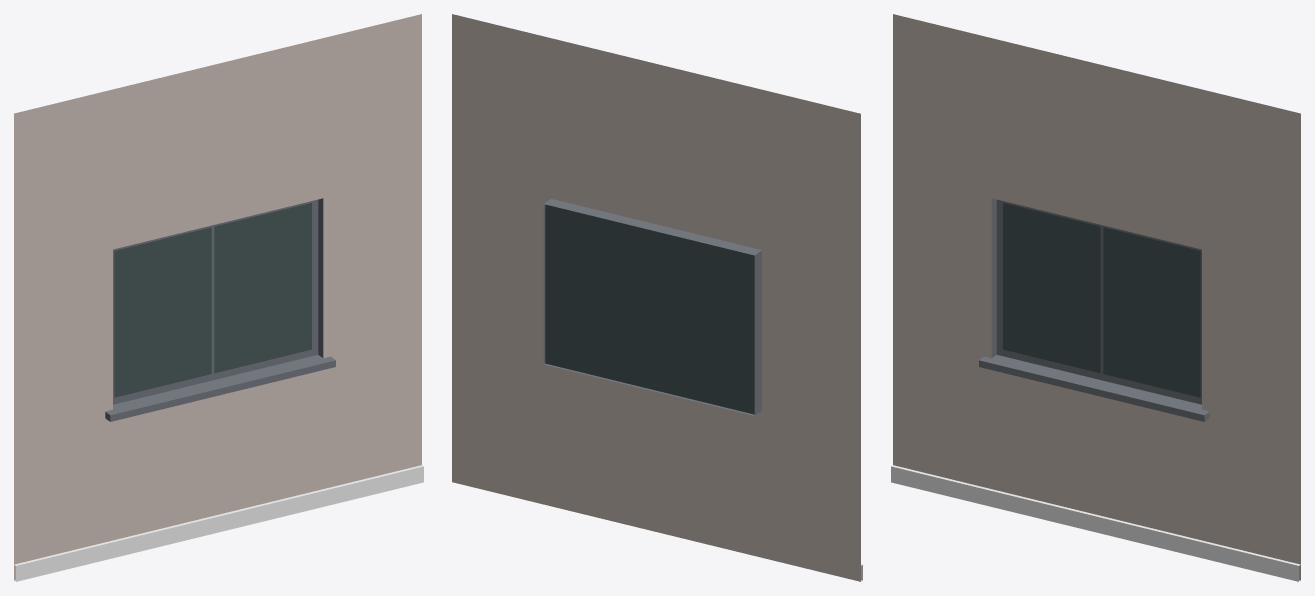
The model's file is top-w3.fbx.
3 renders of one model, left to right at view 1: azimuth 30°, elevation 25°; view 2: azimuth 150°, elevation 25°; view 3: azimuth 330°, elevation 25°, orthographic.
Parts seen in each view (by area): view 1: a2000s2/0/top-w3; view 2: a2000s2/0/top-w3; view 3: a2000s2/0/top-w3.
Boxes of the visible parts, x1,y1,x2,y2 form: a2000s2/0/top-w3: [14, 14, 423, 581]; a2000s2/0/top-w3: [452, 14, 862, 581]; a2000s2/0/top-w3: [891, 14, 1300, 581].
Size of the model in its own units: 3.2 by 3.5 by 0.17.
